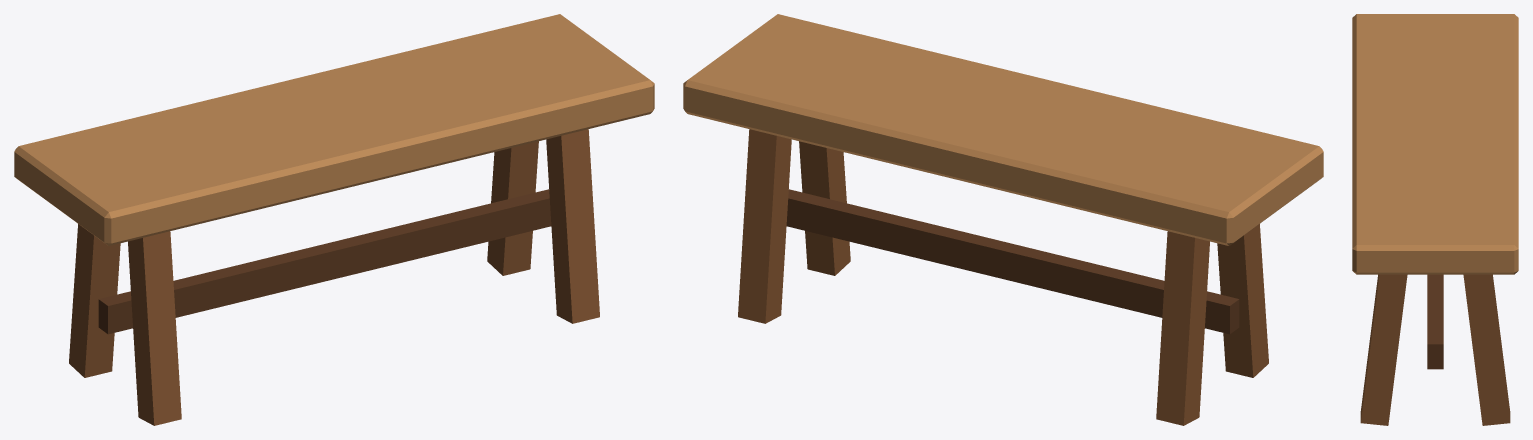
Rendered from Bench.fbx.
The picture shows the model from 3 angles, left to right: view 1: azimuth 30°, elevation 25°; view 2: azimuth 150°, elevation 25°; view 3: azimuth 270°, elevation 25°; orthographic projection. The views are drawn at different scales.
Visible parts, largest first — view 1: Bench; view 2: Bench; view 3: Bench.
Part boxes in pixels (x1,y1,x2,y2): Bench: (14, 14, 654, 425); Bench: (683, 14, 1323, 425); Bench: (1352, 14, 1518, 425).
Bounding box in the file's own units: 5 × 2 × 1.5.
